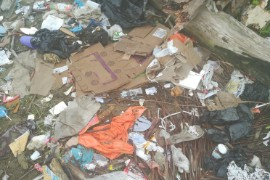trash: (1, 1, 270, 178)
